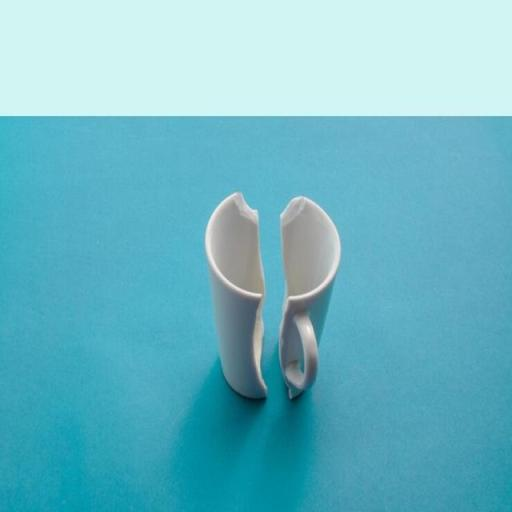glass: (204, 191, 271, 398), (278, 196, 342, 398)
